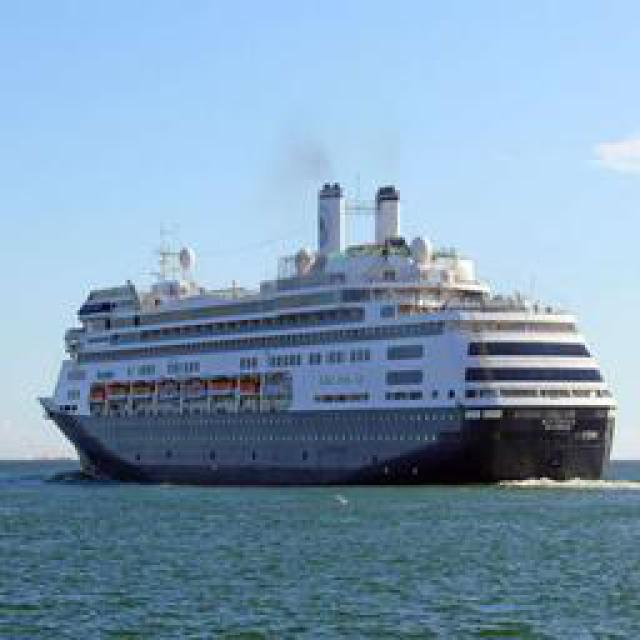Ship: (42, 180, 622, 488)
